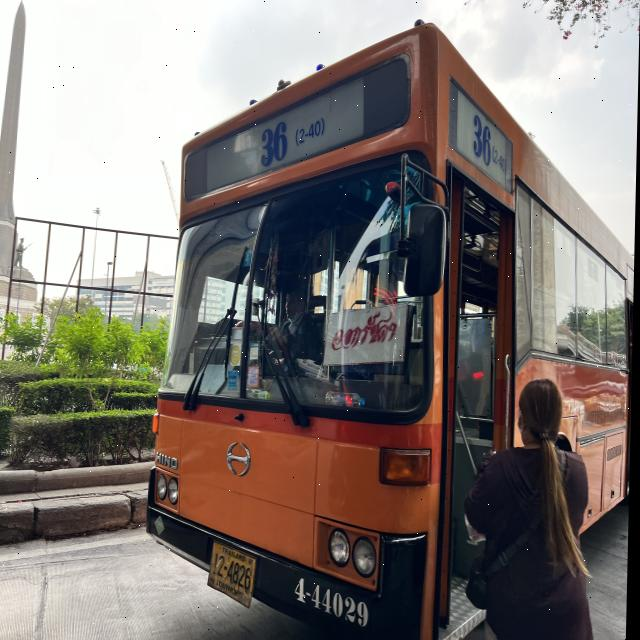BMTA-bus: (148, 21, 636, 640)
Bus Line Number: (263, 103, 329, 168), (466, 114, 512, 181)
Bus Side Number: (294, 573, 374, 630)
Destination Sign: (328, 307, 410, 361)
